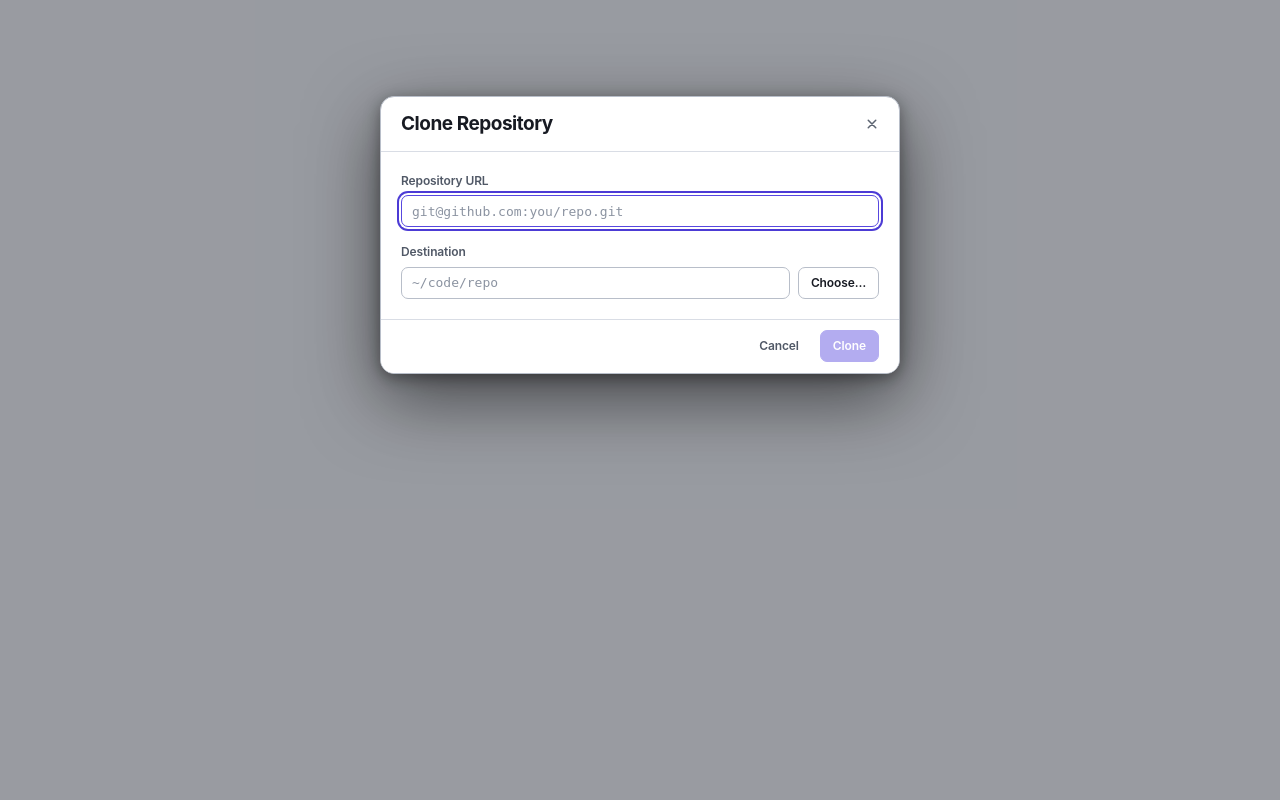
Test: cloning › clones what was typed, and says in one line why it did not
Type "https://github.com/acme/api" into the field labelled "Repository URL". click: (640, 211)
box: [401,195,879,227]
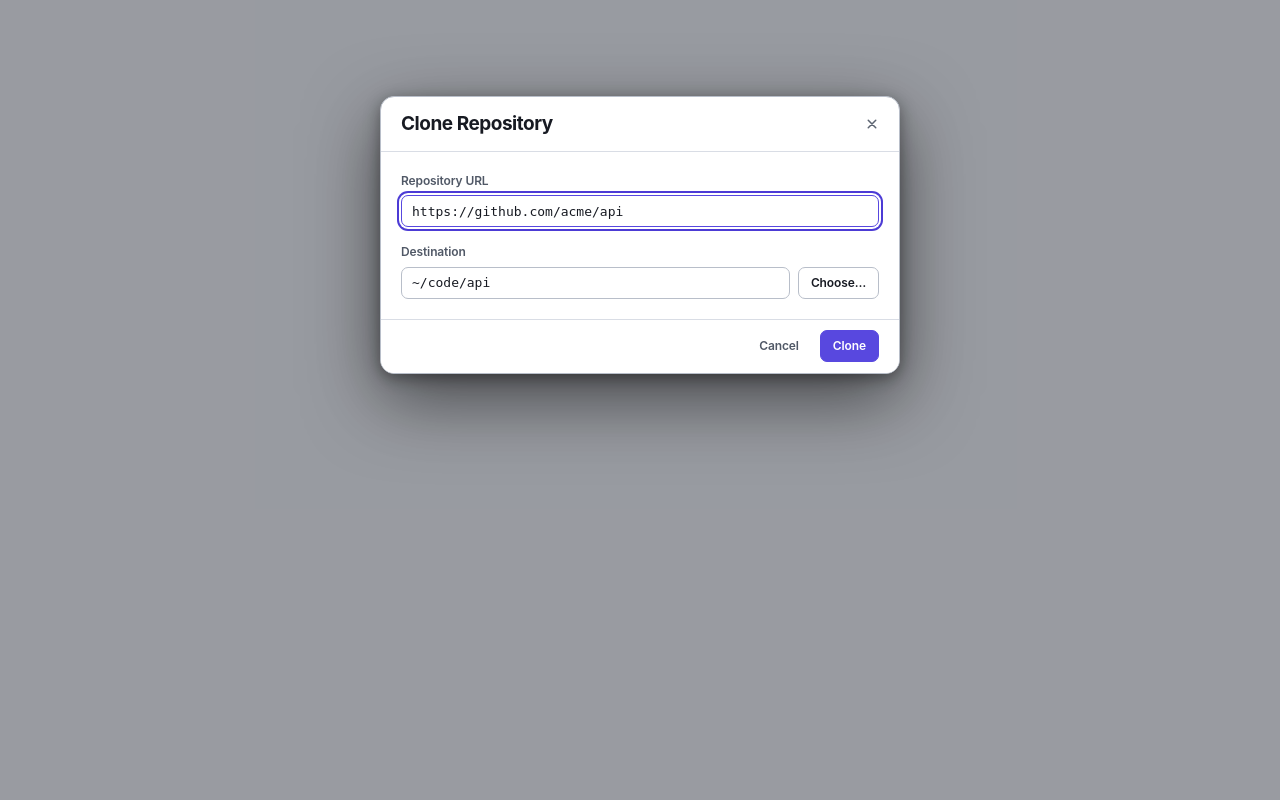
Click the button "Clone". click: click(849, 346)
box: [820,330,879,362]
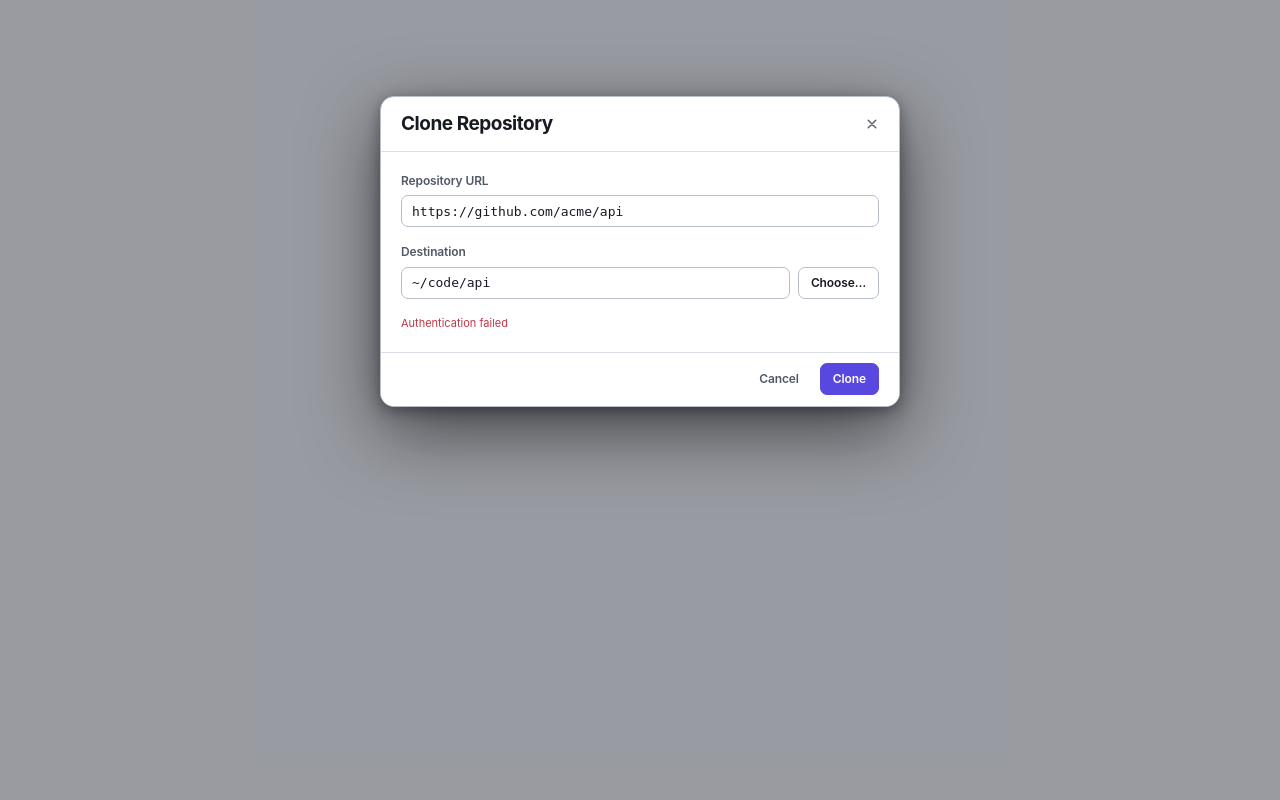
Now the message reads "Authentication failed", box [401,316,508,330]
